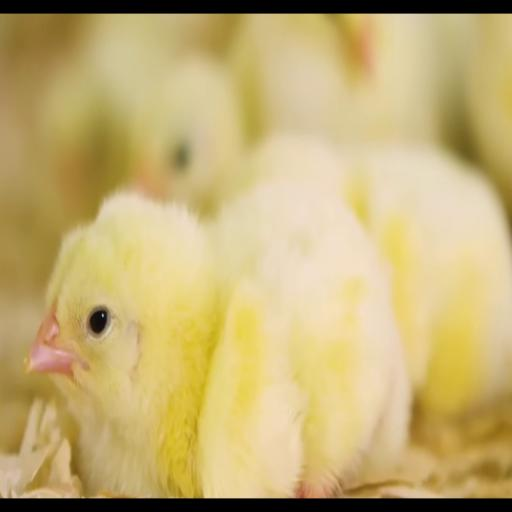chick: (27, 181, 410, 497), (133, 53, 246, 215)
